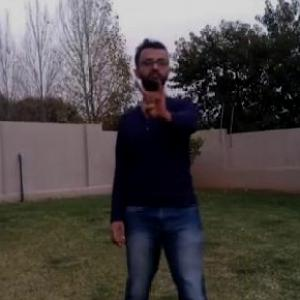takeoff-hand: (128, 77, 176, 122)
